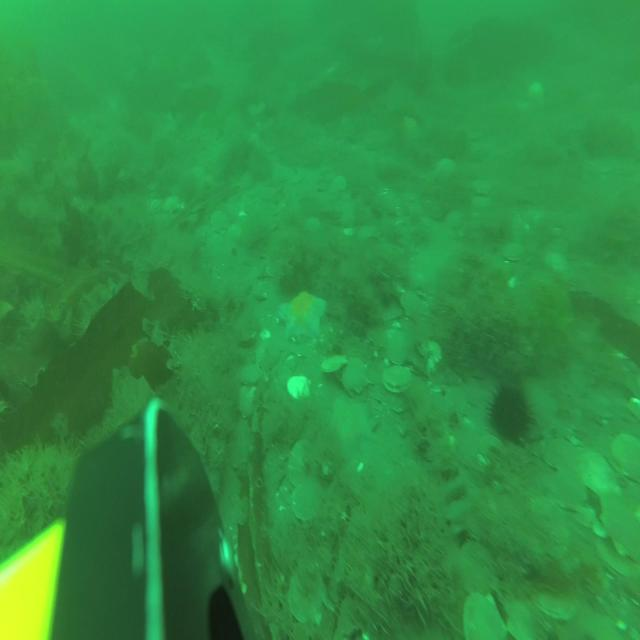echinus: (487, 377, 533, 446)
scallop: (598, 491, 640, 568), (286, 562, 331, 626), (532, 578, 583, 629), (461, 584, 505, 640), (578, 447, 622, 499), (543, 470, 588, 515), (608, 425, 640, 486), (290, 476, 329, 524), (543, 425, 581, 472), (288, 432, 318, 488), (342, 354, 370, 396), (383, 362, 413, 396), (542, 246, 569, 279), (285, 374, 314, 402), (237, 382, 257, 422), (400, 288, 424, 320), (501, 237, 527, 264), (320, 353, 349, 376), (160, 189, 183, 217), (473, 172, 495, 201), (209, 207, 229, 237), (444, 205, 466, 231), (240, 363, 263, 387), (332, 170, 348, 197)
starfish: (326, 394, 382, 474), (278, 284, 329, 342)
